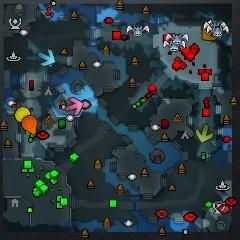p4: (15, 106, 30, 123)
p5: (22, 116, 38, 135)
x1: (65, 97, 83, 116)
x2: (196, 125, 213, 143)
x3: (38, 49, 55, 66)
x5: (202, 27, 217, 42)
